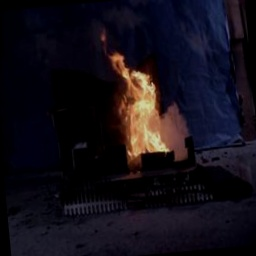fire: (100, 28, 165, 161)
